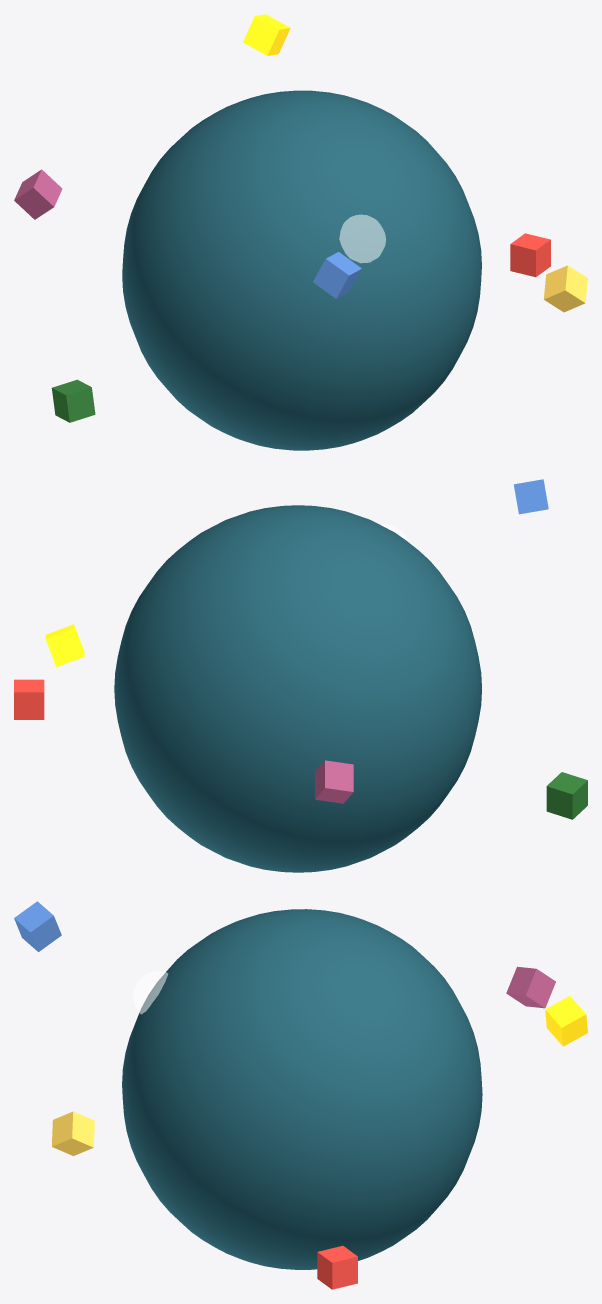
File: filter_bubble.glb
3 views of the same model, one above another, from view 1: azimuth 30°, elevation 25°; view 2: azimuth 150°, elevation 25°; view 3: azimuth 270°, elevation 25° (orthographic). The views are drawn at different scales.
Bounding box in the file's own units: 2.85 × 1.7 × 2.7.
